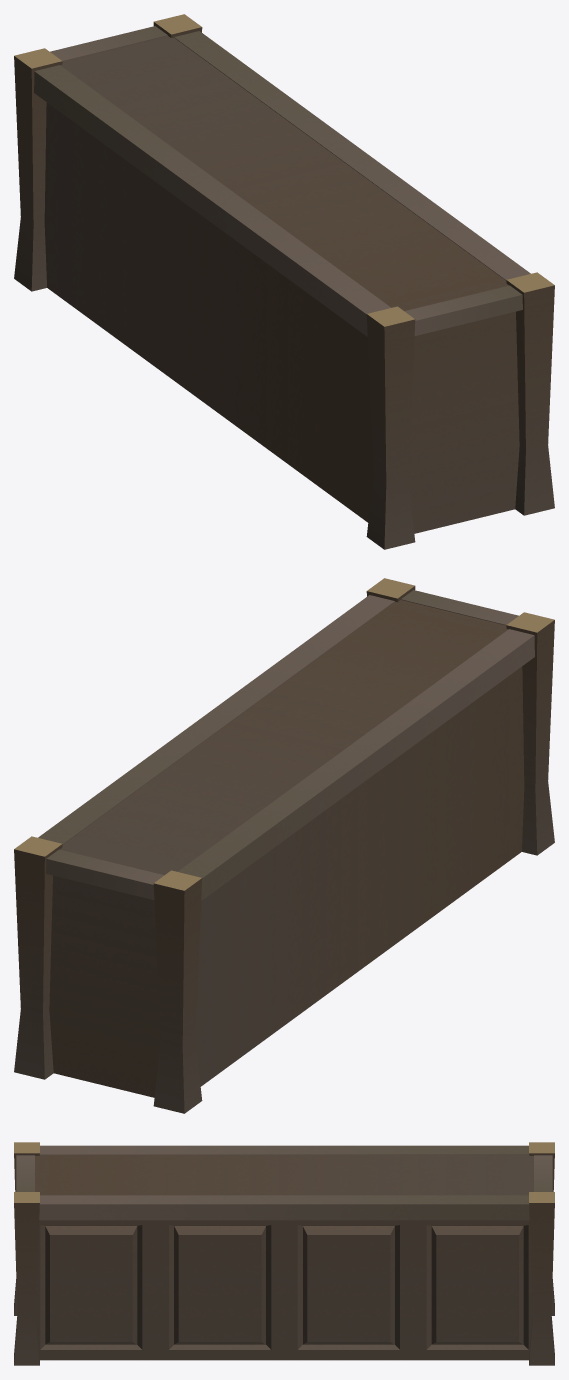
File: Tavern_Table_1.fbx
3 views of the same model, one above another, from view 1: azimuth 30°, elevation 25°; view 2: azimuth 150°, elevation 25°; view 3: azimuth 270°, elevation 25° (orthographic). The views are drawn at different scales.
Visible parts, largest first — view 1: pCube803; view 2: pCube803; view 3: pCube803.
Part boxes in pixels (<box>): pCube803: <box>14,14,554,549</box>; pCube803: <box>14,578,554,1113</box>; pCube803: <box>14,1142,554,1365</box>.
Size of the model in its own units: 97.7 by 122 by 368.
